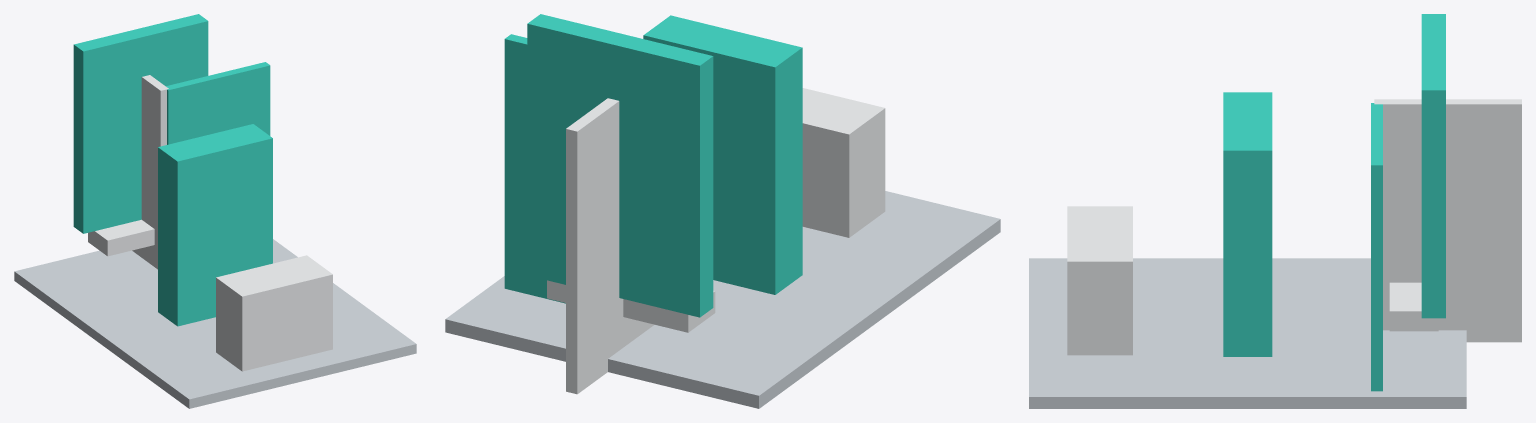
The picture shows the model from 3 angles, left to right: view 1: azimuth 30°, elevation 25°; view 2: azimuth 150°, elevation 25°; view 3: azimuth 270°, elevation 25°; orthographic projection. The views are drawn at different scales.
Visible parts, largest first — view 1: Exhibition Booth Concept; view 2: Exhibition Booth Concept; view 3: Exhibition Booth Concept.
Boxes of the visible parts, left/top/right/bottom form: Exhibition Booth Concept: left=14, top=14, right=416, bottom=408; Exhibition Booth Concept: left=445, top=14, right=1000, bottom=408; Exhibition Booth Concept: left=1029, top=14, right=1521, bottom=408.
Size of the model in its own units: 3 by 2.9 by 4.51.
